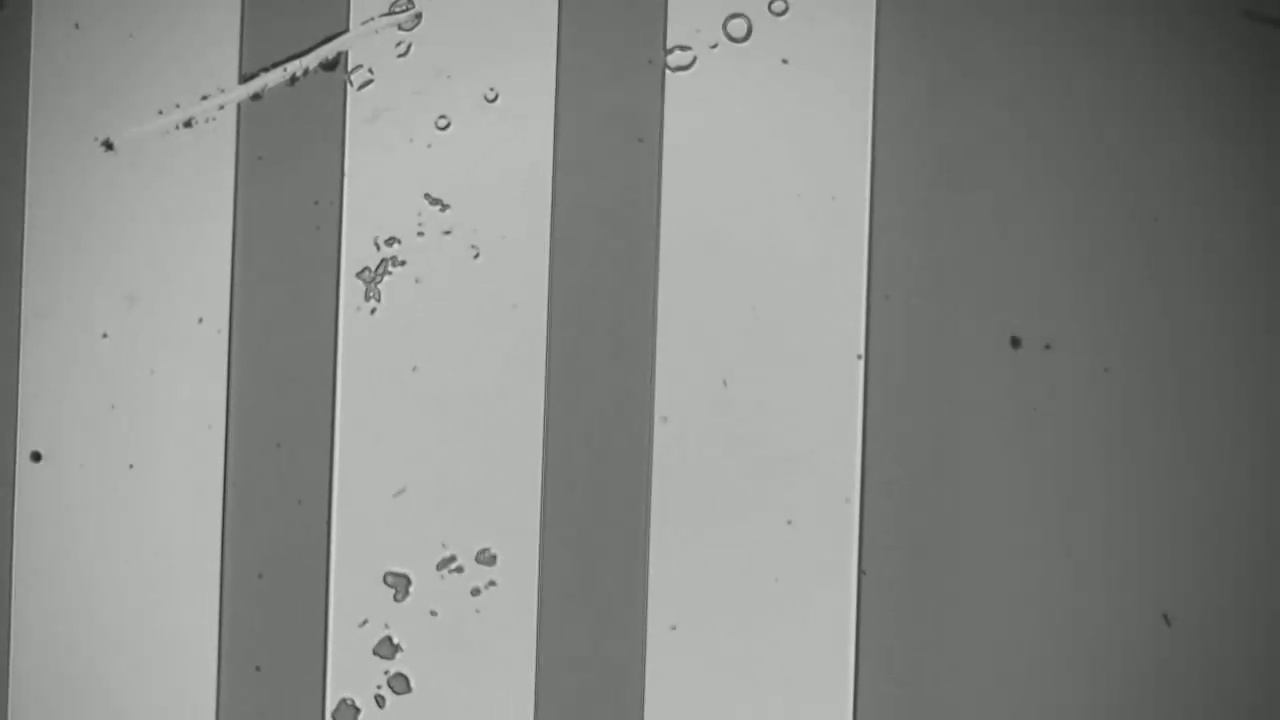Short_circuit: (205, 14, 373, 127)
